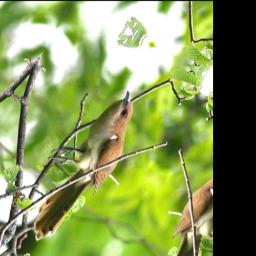Cuckoo: (9, 73, 152, 256)
